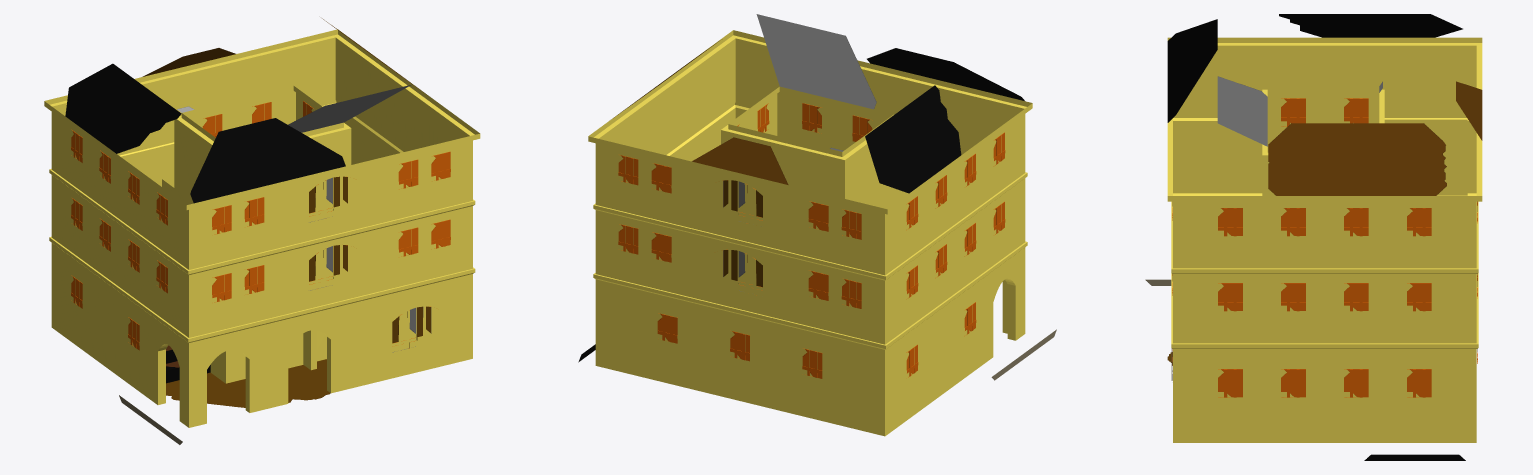
3 views of the same model, side by side, from view 1: azimuth 30°, elevation 25°; view 2: azimuth 150°, elevation 25°; view 3: azimuth 270°, elevation 25° (orthographic). The views are drawn at different scales.
Visible parts, largest first — view 1: Insula_Insula.003_Concrete, Insula_Insula.003_Roof, Insula_Insula.003_Wood, Insula_Insula.003_Floor; view 2: Insula_Insula.003_Concrete, Insula_Insula.003_Roof, Insula_Insula.003_Wood; view 3: Insula_Insula.003_Concrete, Insula_Insula.003_Roof, Insula_Insula.003_Wood, Insula_Insula.003_Floor.
Boxes of the visible parts, x1,y1,x2,y2 form: Insula_Insula.003_Concrete: (44, 29, 480, 427); Insula_Insula.003_Roof: (65, 18, 426, 203); Insula_Insula.003_Wood: (71, 101, 450, 352); Insula_Insula.003_Floor: (119, 359, 330, 444); Insula_Insula.003_Concrete: (588, 30, 1032, 436); Insula_Insula.003_Roof: (614, 14, 1024, 193); Insula_Insula.003_Wood: (618, 103, 1005, 378); Insula_Insula.003_Concrete: (1167, 37, 1482, 442); Insula_Insula.003_Roof: (1167, 14, 1482, 195); Insula_Insula.003_Wood: (1171, 98, 1477, 397); Insula_Insula.003_Floor: (1145, 279, 1465, 460).
Size of the model in its own units: 6 by 4.86 by 6.
